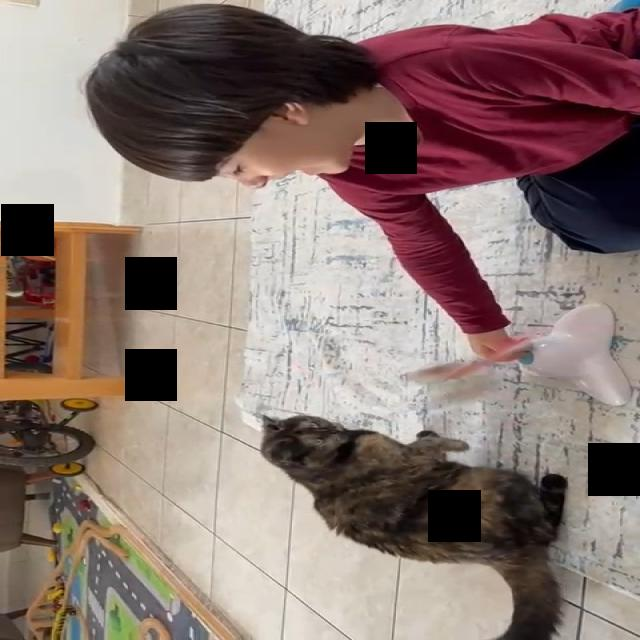authorized: (258, 414, 570, 639)
